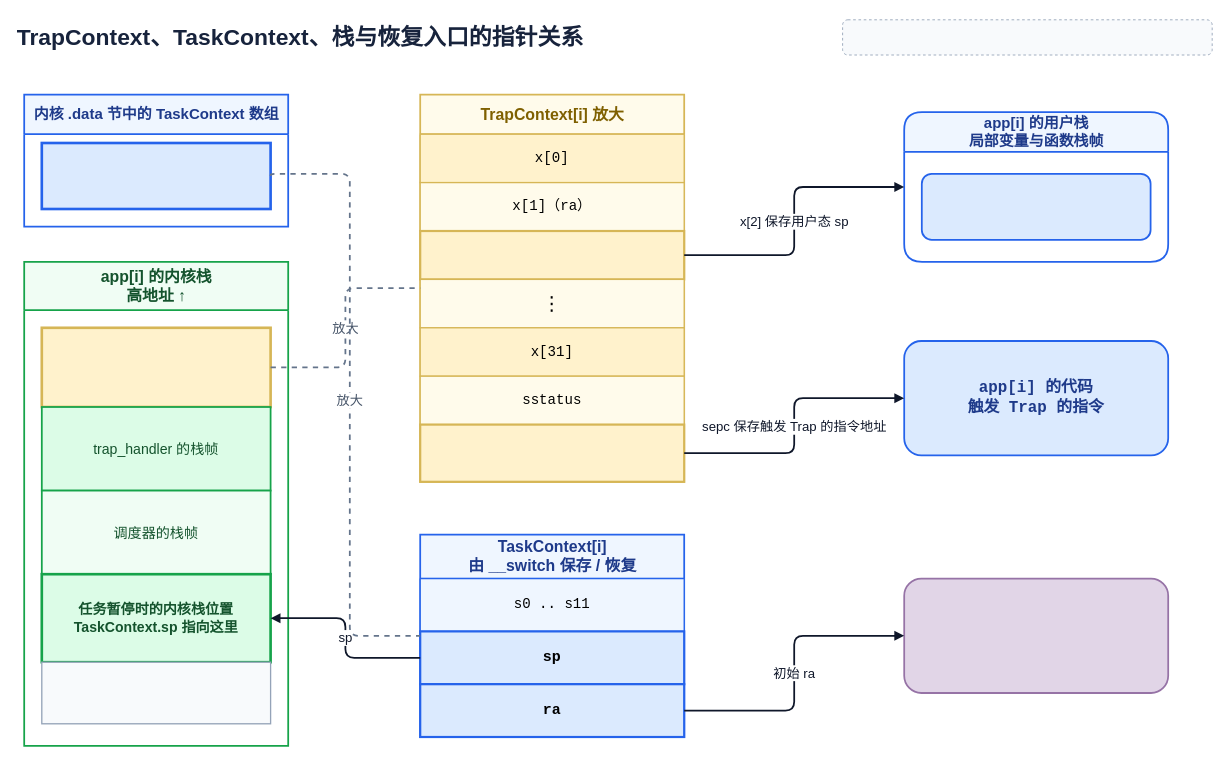
The diagram is 1228 pixels wide and 761 high, and some of its shapes have lost their labels. The shapes that lost their labels are listed below. From the top down, each one's centre as x and y in pixels, then its label:
the point at 1027,37: 虚线：结构放大 实线箭头：字段中保存的地址
the point at 155,175: TaskContext[i]
the point at 1035,206: 用户态 sp 指向这里
the point at 552,255: x[2]（sp）
the point at 155,367: 内核栈栈顶的 TrapContext[i]
the point at 552,453: sepc
the point at 1036,635: __restore 代码 恢复 TrapContext，执行 sret
the point at 156,692: 低地址 ↓
